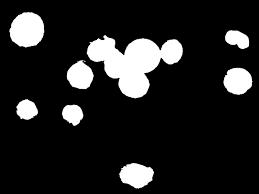cell: (89, 36, 184, 99), (9, 12, 45, 48), (120, 163, 155, 190), (225, 67, 253, 94), (16, 99, 39, 121), (62, 104, 83, 127), (227, 31, 249, 49)
